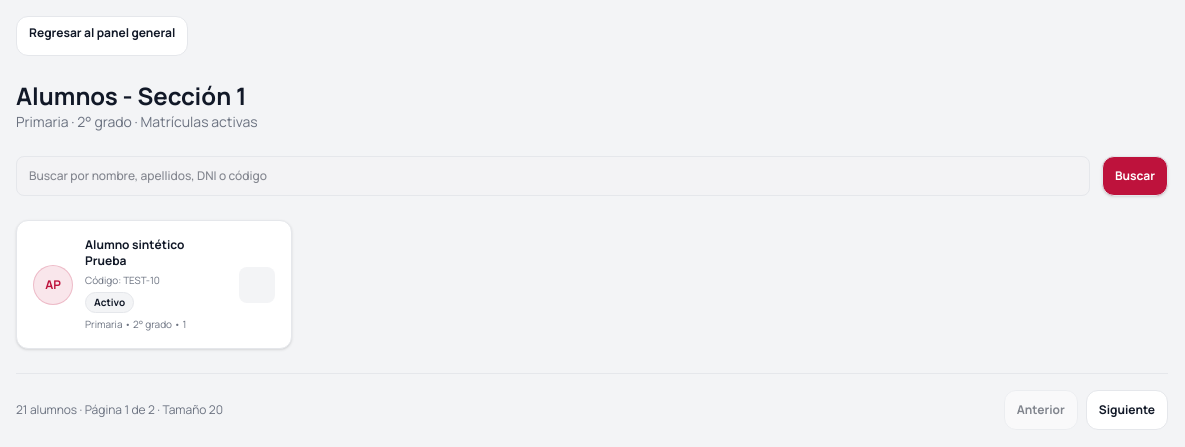
Test: empty section and empty search are distinct; search resets page and keeps section filter
The width and height of the screenshot is (1185, 447).
Click the button "Siguiente".
click(1127, 410)  # box [1086,390,1168,430]
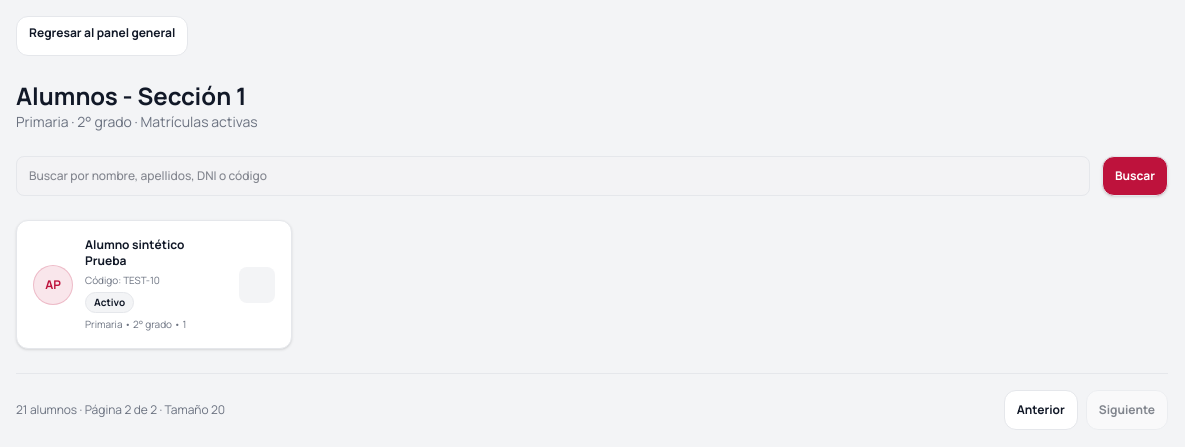
Type "  inexistente  " into the field with placeholder "Buscar por nombre, apellidos, DNI o código".
click(553, 176); type("  inexistente  ")  # box [16,156,1090,196]
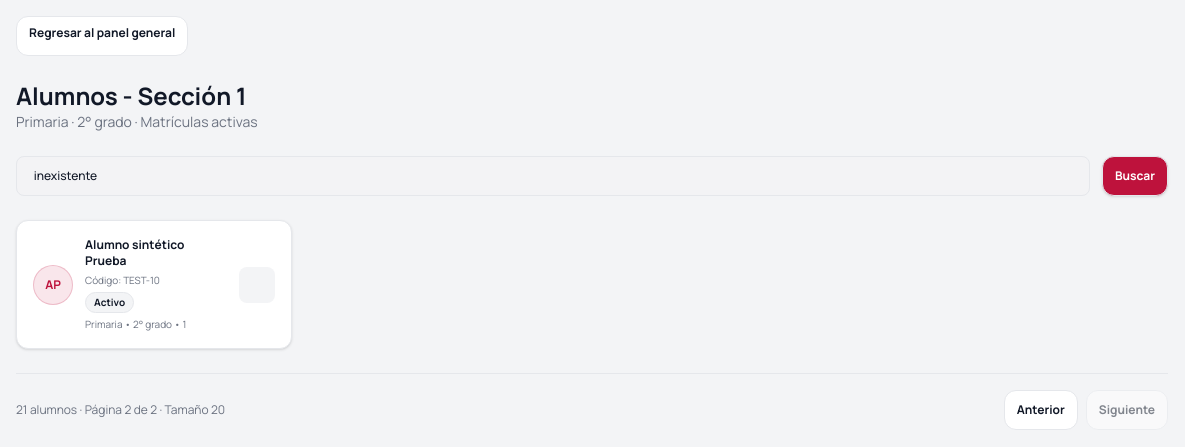
Submit the form, box [16,156,1168,196]
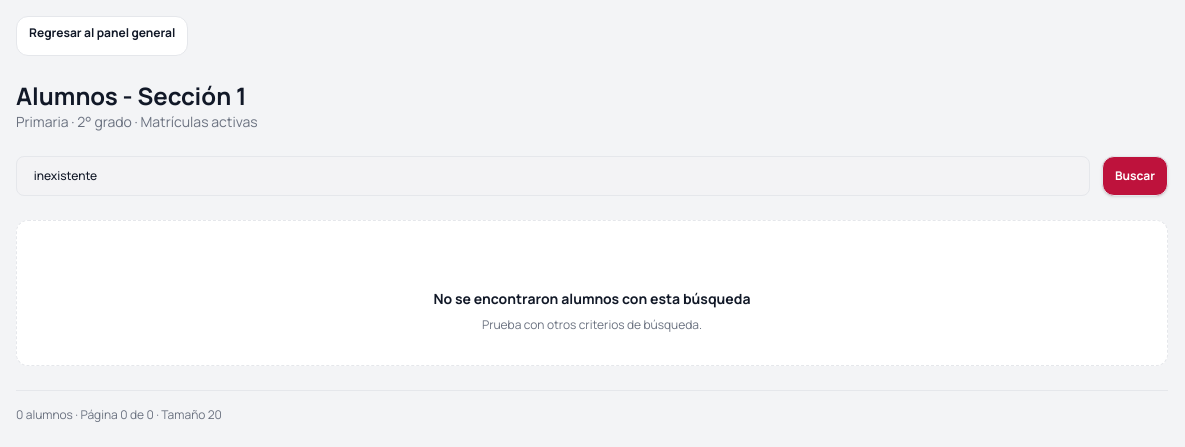
expect the text "No se encontraron alumnos con esta búsqueda" is shown: met, box [434,289,750,309]
